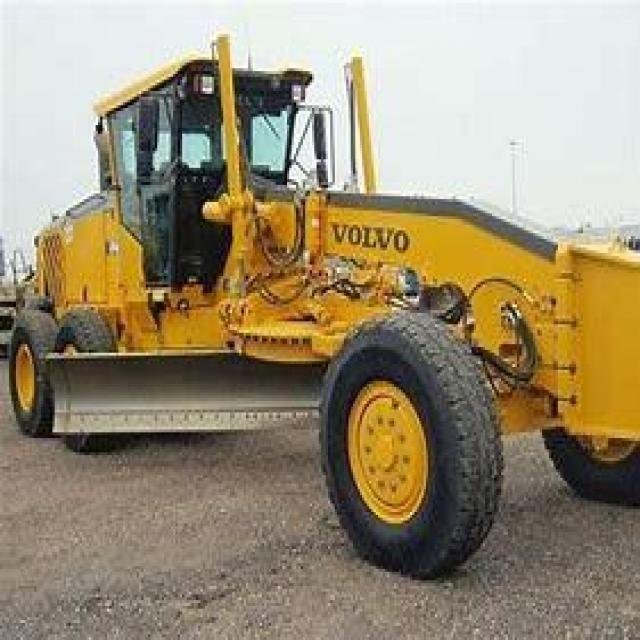Grader: (14, 23, 633, 560)
